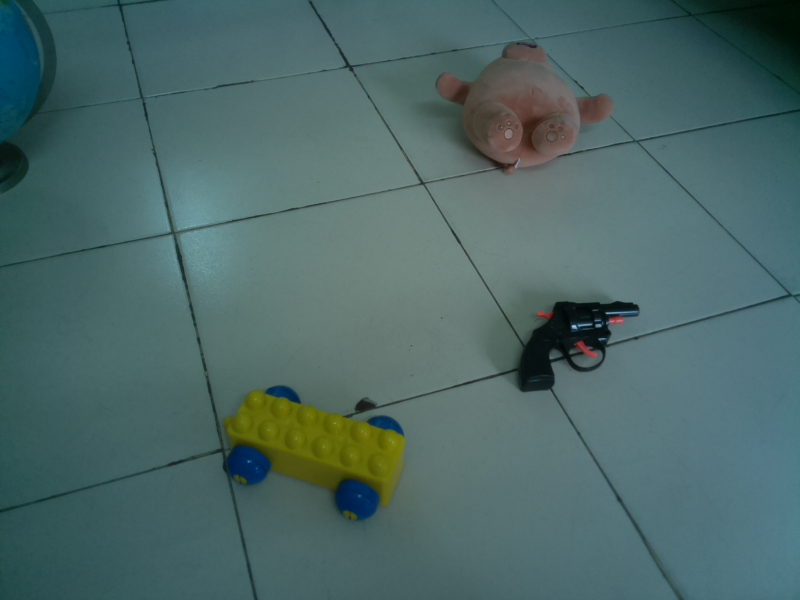Gun: (512, 294, 647, 399)
toy_Car: (219, 379, 411, 521)
